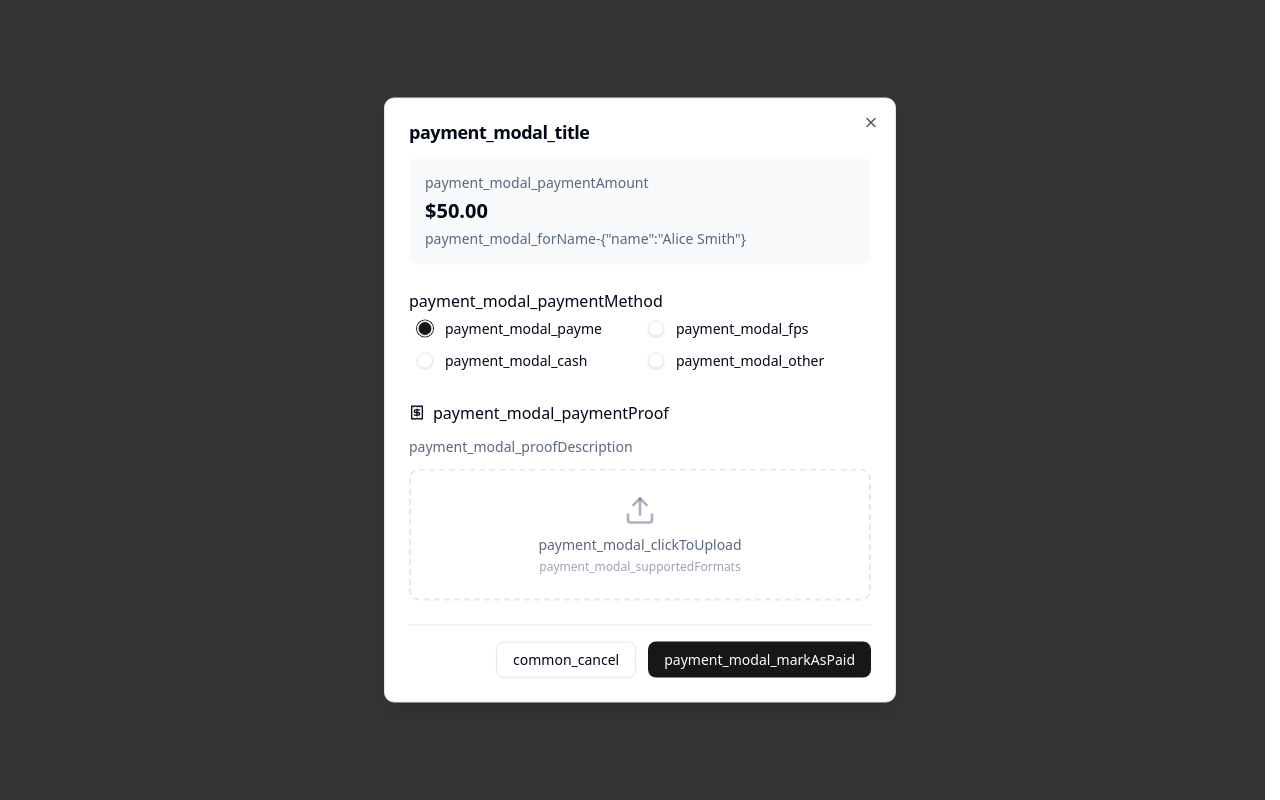
Test: UnifiedPaymentModal › changes payment method when radio clicked
The image size is (1280, 800).
Click the radio button named "payment_modal_fps" next to "payment_modal_fps": (656, 328) [648,320,664,336]
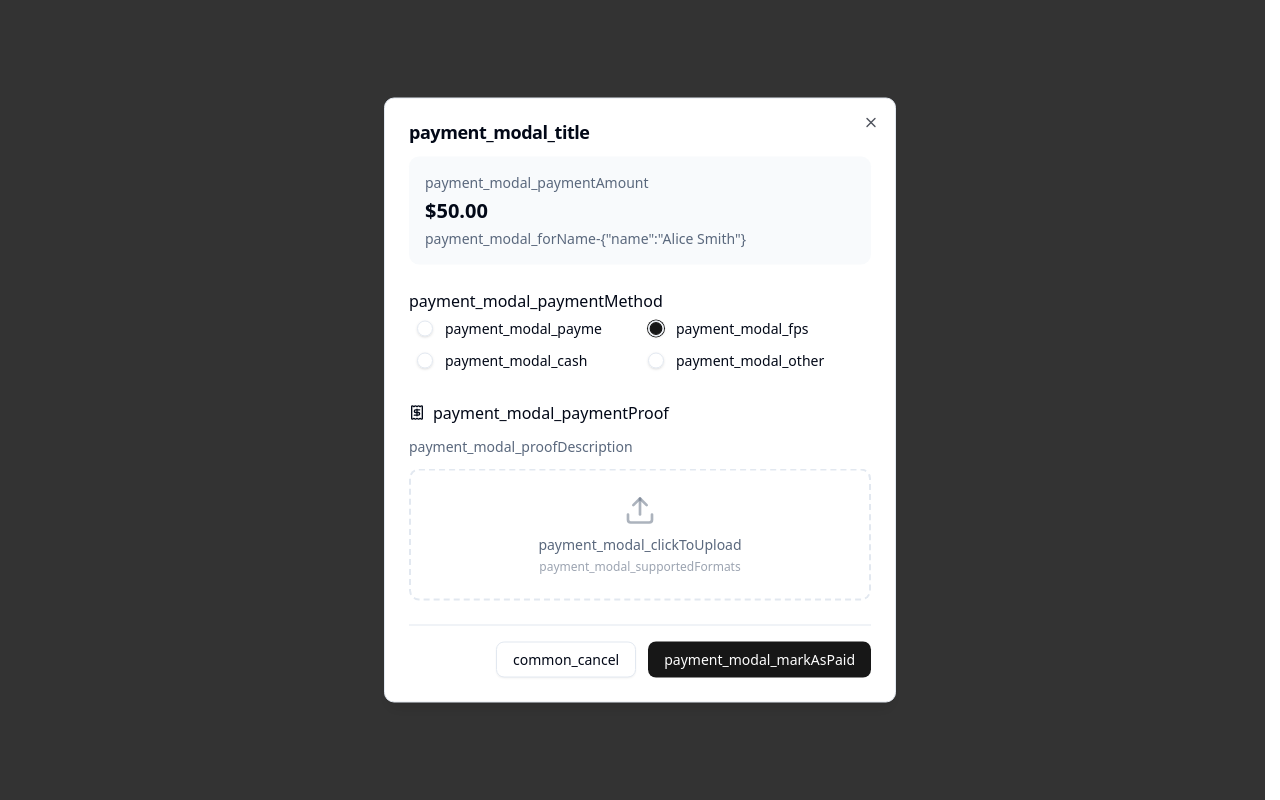
Expected: the radio button named "payment_modal_fps" next to "payment_modal_fps" is checked, [648,320,664,336]
Expected: the 1st radio button named "payment_modal_payme" is not checked, [417,320,433,336]
